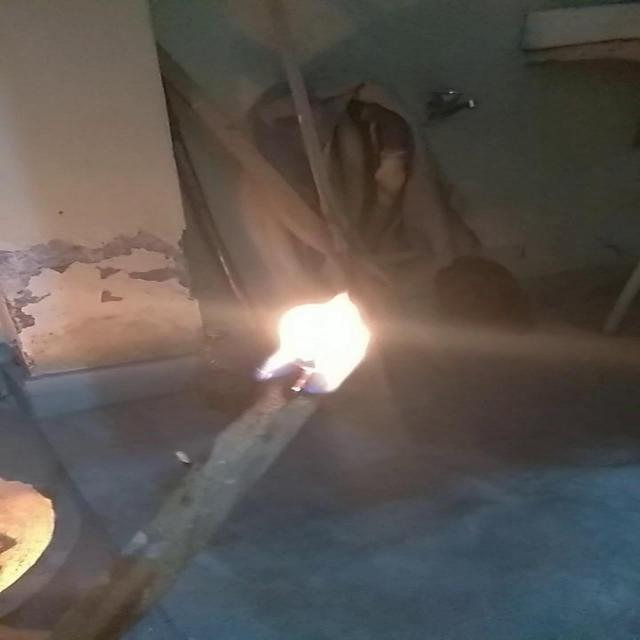fire: (232, 275, 395, 397)
